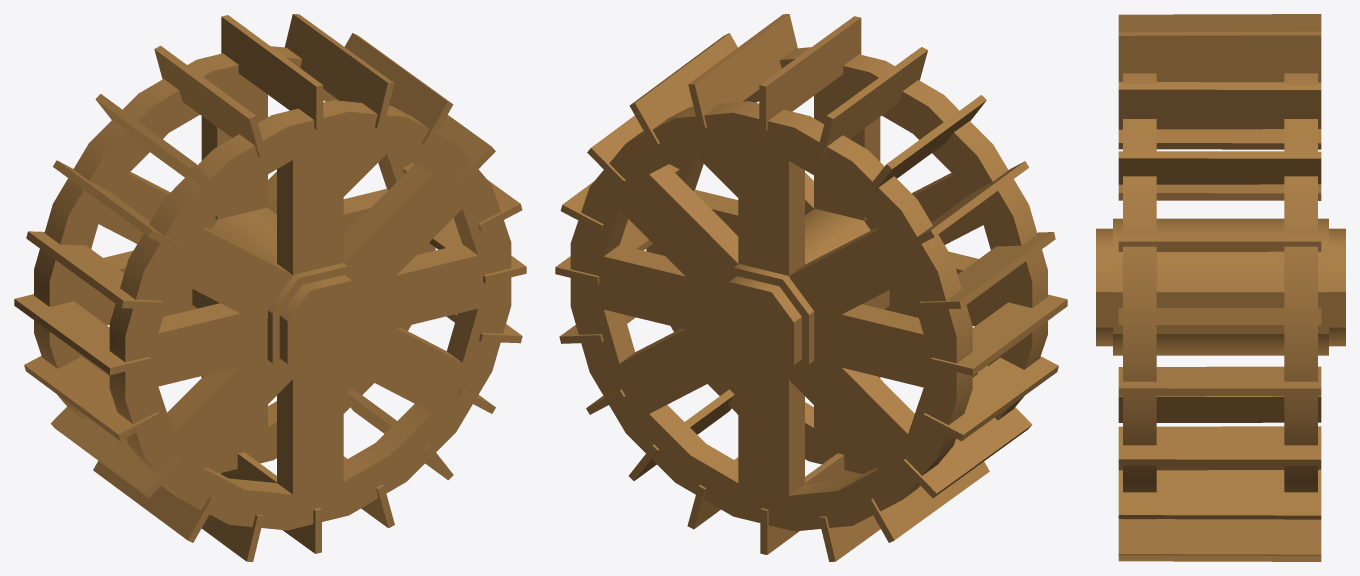
Rendered from WaterWheel.fbx.
3 views of the same model, side by side, from view 1: azimuth 30°, elevation 25°; view 2: azimuth 150°, elevation 25°; view 3: azimuth 270°, elevation 25° (orthographic). The views are drawn at different scales.
Visible parts, largest first — view 1: WaterWheel; view 2: WaterWheel; view 3: WaterWheel.
Part boxes in pixels (x1=…): WaterWheel: x1=14, y1=14, x2=526, y2=561; WaterWheel: x1=555, y1=14, x2=1067, y2=561; WaterWheel: x1=1096, y1=14, x2=1345, y2=561.
Bounding box in the file's own units: 4.5 × 4.82 × 2.18.
